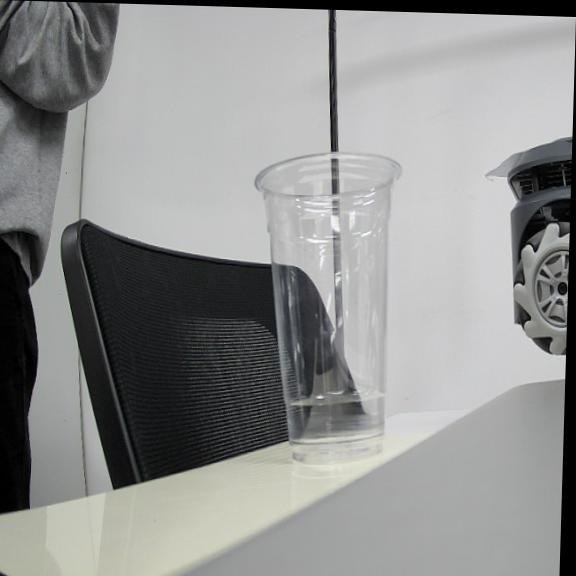Plastik: (256, 153, 401, 462)
